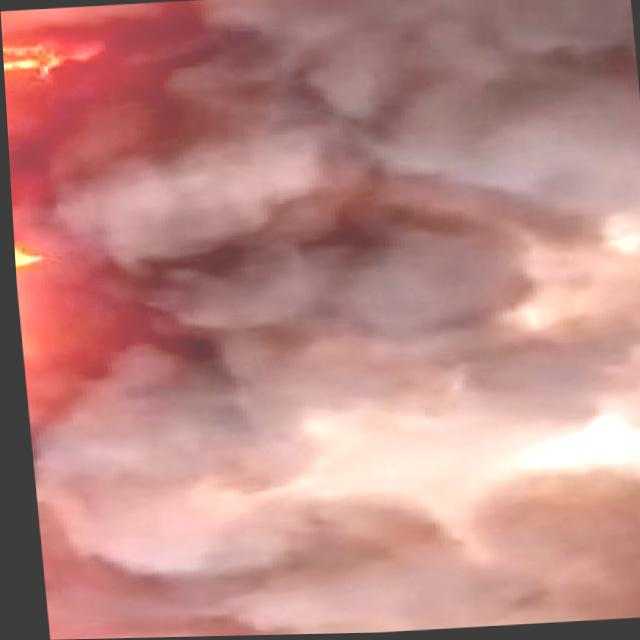fire: (0, 8, 82, 124), (9, 197, 39, 282)
smoke: (68, 0, 640, 565), (386, 403, 640, 632)
